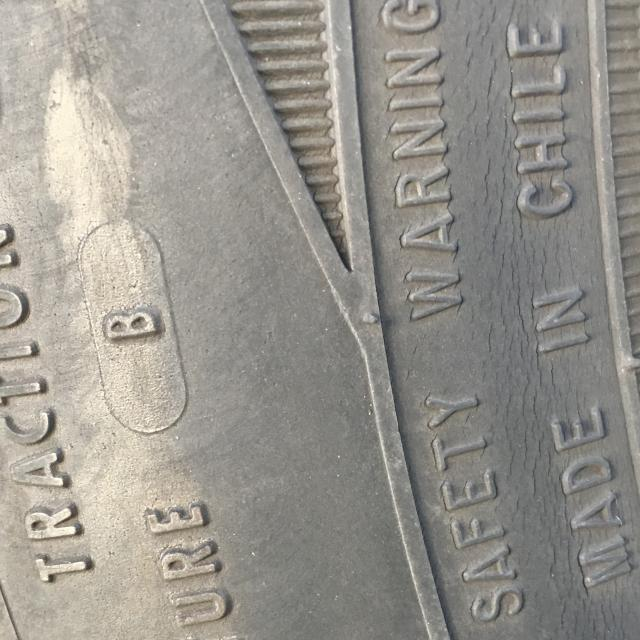Cracks: (381, 0, 640, 640)
Non-defective: (0, 0, 329, 640)
